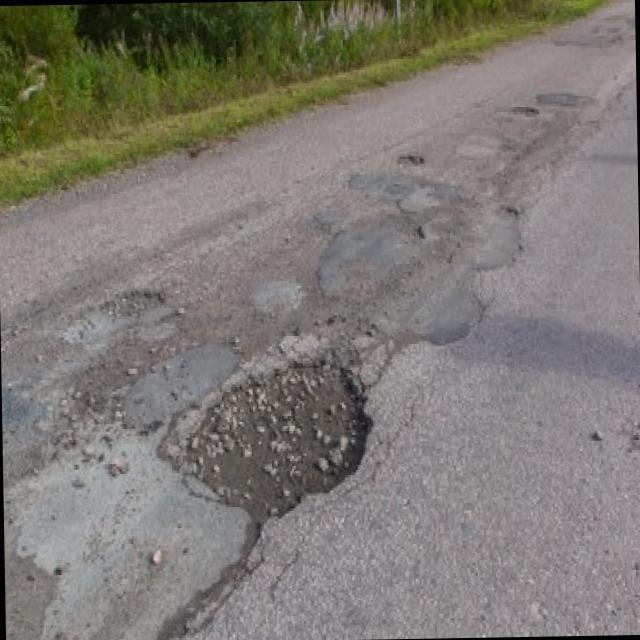Pothole: (177, 357, 372, 508), (97, 288, 167, 322), (397, 151, 422, 166)
